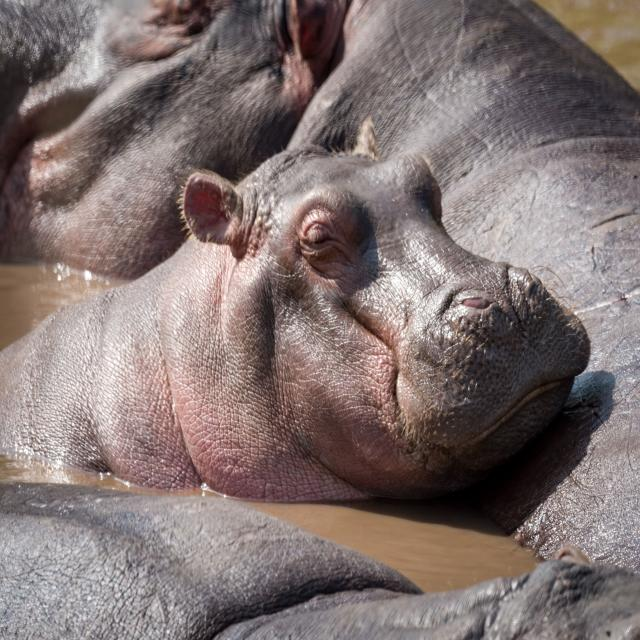Hippopotamus: (0, 148, 589, 498)
